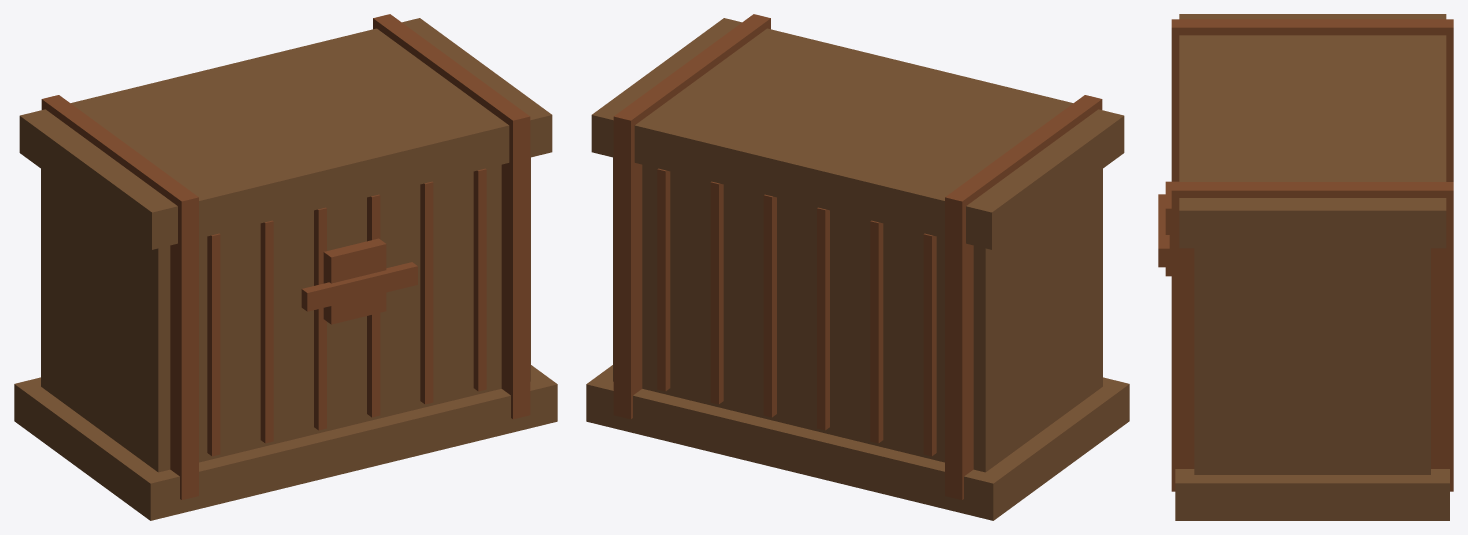
Rendered from FARM_FEED_BIN_TIMBER_LODs.fbx.
3 views of the same model, side by side, from view 1: azimuth 30°, elevation 25°; view 2: azimuth 150°, elevation 25°; view 3: azimuth 270°, elevation 25° (orthographic).
Parts seen in each view (by area): view 1: FARM_FEED_BIN_TIMBER_LOD0; view 2: FARM_FEED_BIN_TIMBER_LOD0; view 3: FARM_FEED_BIN_TIMBER_LOD0.
Part boxes in pixels (<box>): FARM_FEED_BIN_TIMBER_LOD0: <box>14,14,557,520</box>; FARM_FEED_BIN_TIMBER_LOD0: <box>586,14,1129,520</box>; FARM_FEED_BIN_TIMBER_LOD0: <box>1158,14,1453,520</box>.
Size of what is drawn, in the model's own units: 1.25 by 0.92 by 0.78.
